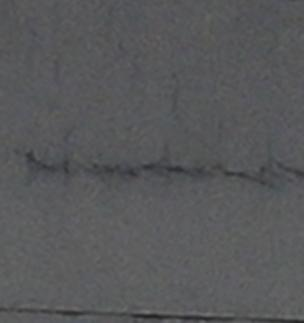fissura: (10, 125, 304, 202)
